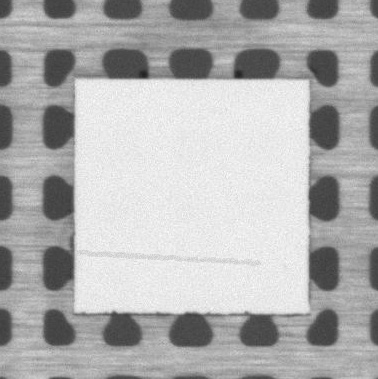DIE_CRACK: (80, 254, 259, 264)
